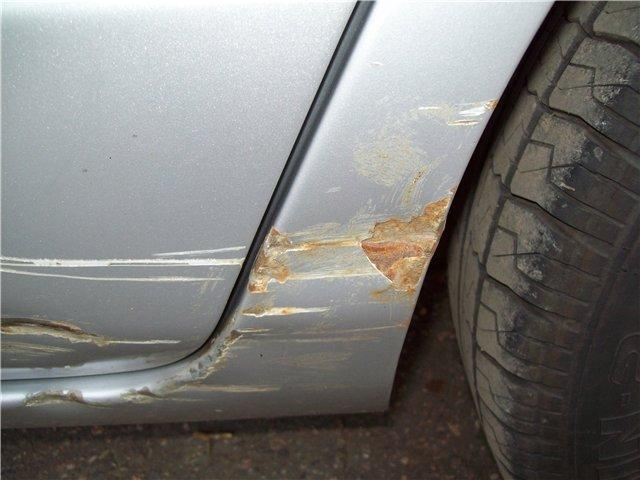corrosion: (362, 195, 452, 293), (250, 225, 374, 294)
